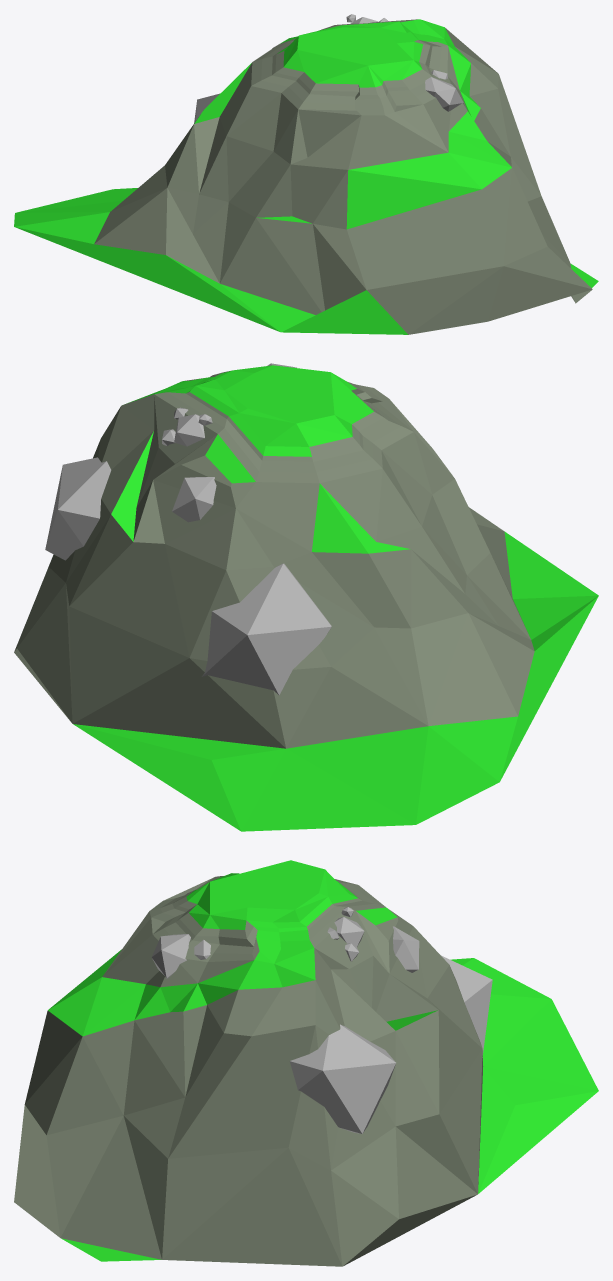
The model's file is terrain.glb.
3 renders of one model, top to bottom at view 1: azimuth 30°, elevation 25°; view 2: azimuth 150°, elevation 25°; view 3: azimuth 270°, elevation 25°, orthographic. The views are drawn at different scales.
Parts seen in each view (by area): view 1: Terrain, Icosphere.004; view 2: Terrain, Icosphere.004; view 3: Terrain, Icosphere.004.
Part boxes in pixels (x1,y1,x2,y2): Terrain: (14,19,598,334); Icosphere.004: (194,14,463,123); Terrain: (14,365,598,831); Icosphere.004: (45,363,331,695); Terrain: (14,860,598,1266); Icosphere.004: (151,907,492,1133).
Bounding box in the file's own units: 13.85 × 6.88 × 13.42.
